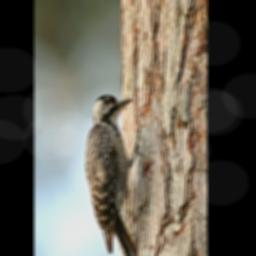Woodpecker: (84, 89, 145, 256)
